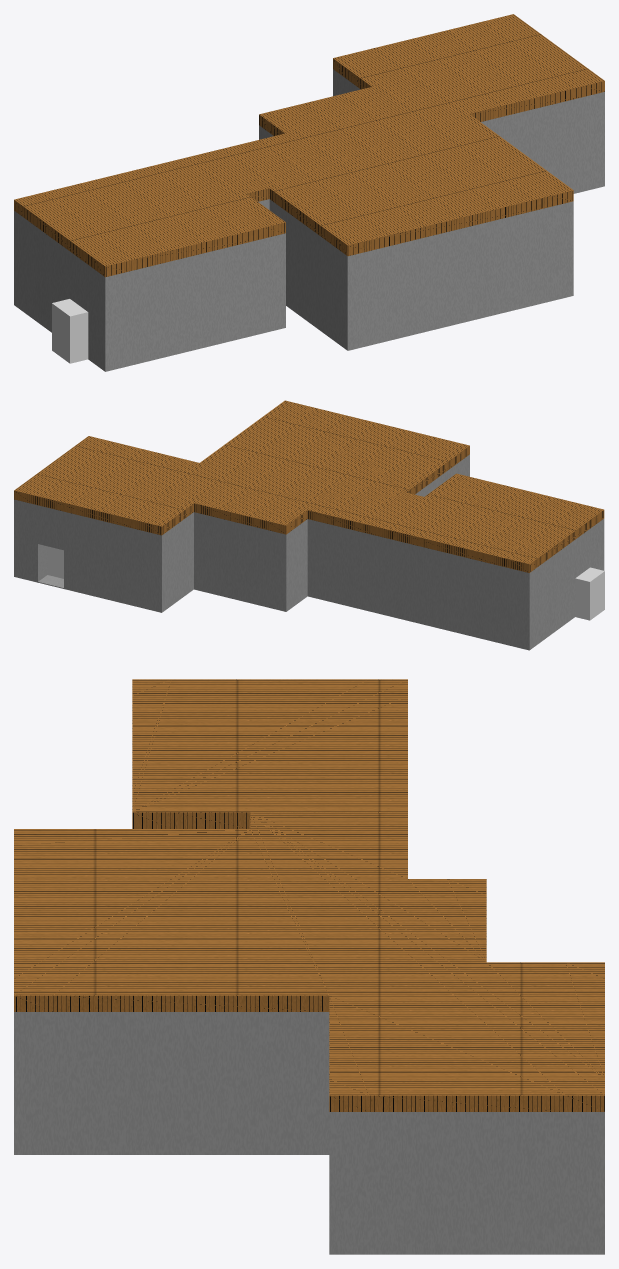
The model's file is nivel1_def_def_def.fbx.
3 views of the same model, one above another, from view 1: azimuth 30°, elevation 25°; view 2: azimuth 150°, elevation 25°; view 3: azimuth 270°, elevation 25° (orthographic). The views are drawn at different scales.
Visible parts, largest first — view 1: Cube.004, Cube.001, Cube; view 2: Cube.004, Cube.001, Cube, Cube.002; view 3: Cube.004, Cube.001.
Boxes of the visible parts, x1,y1,x2,y2 form: Cube.004: (14, 14, 604, 277); Cube.001: (14, 69, 604, 371); Cube: (52, 299, 88, 363); Cube.004: (14, 400, 604, 572); Cube.001: (14, 454, 604, 650); Cube: (575, 567, 604, 620); Cube.002: (47, 546, 63, 578); Cube.004: (14, 679, 604, 1111); Cube.001: (14, 1012, 604, 1254).
Size of the model in its own units: 2580 by 458 by 1500.
